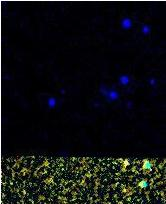star: (110, 151, 140, 181)
